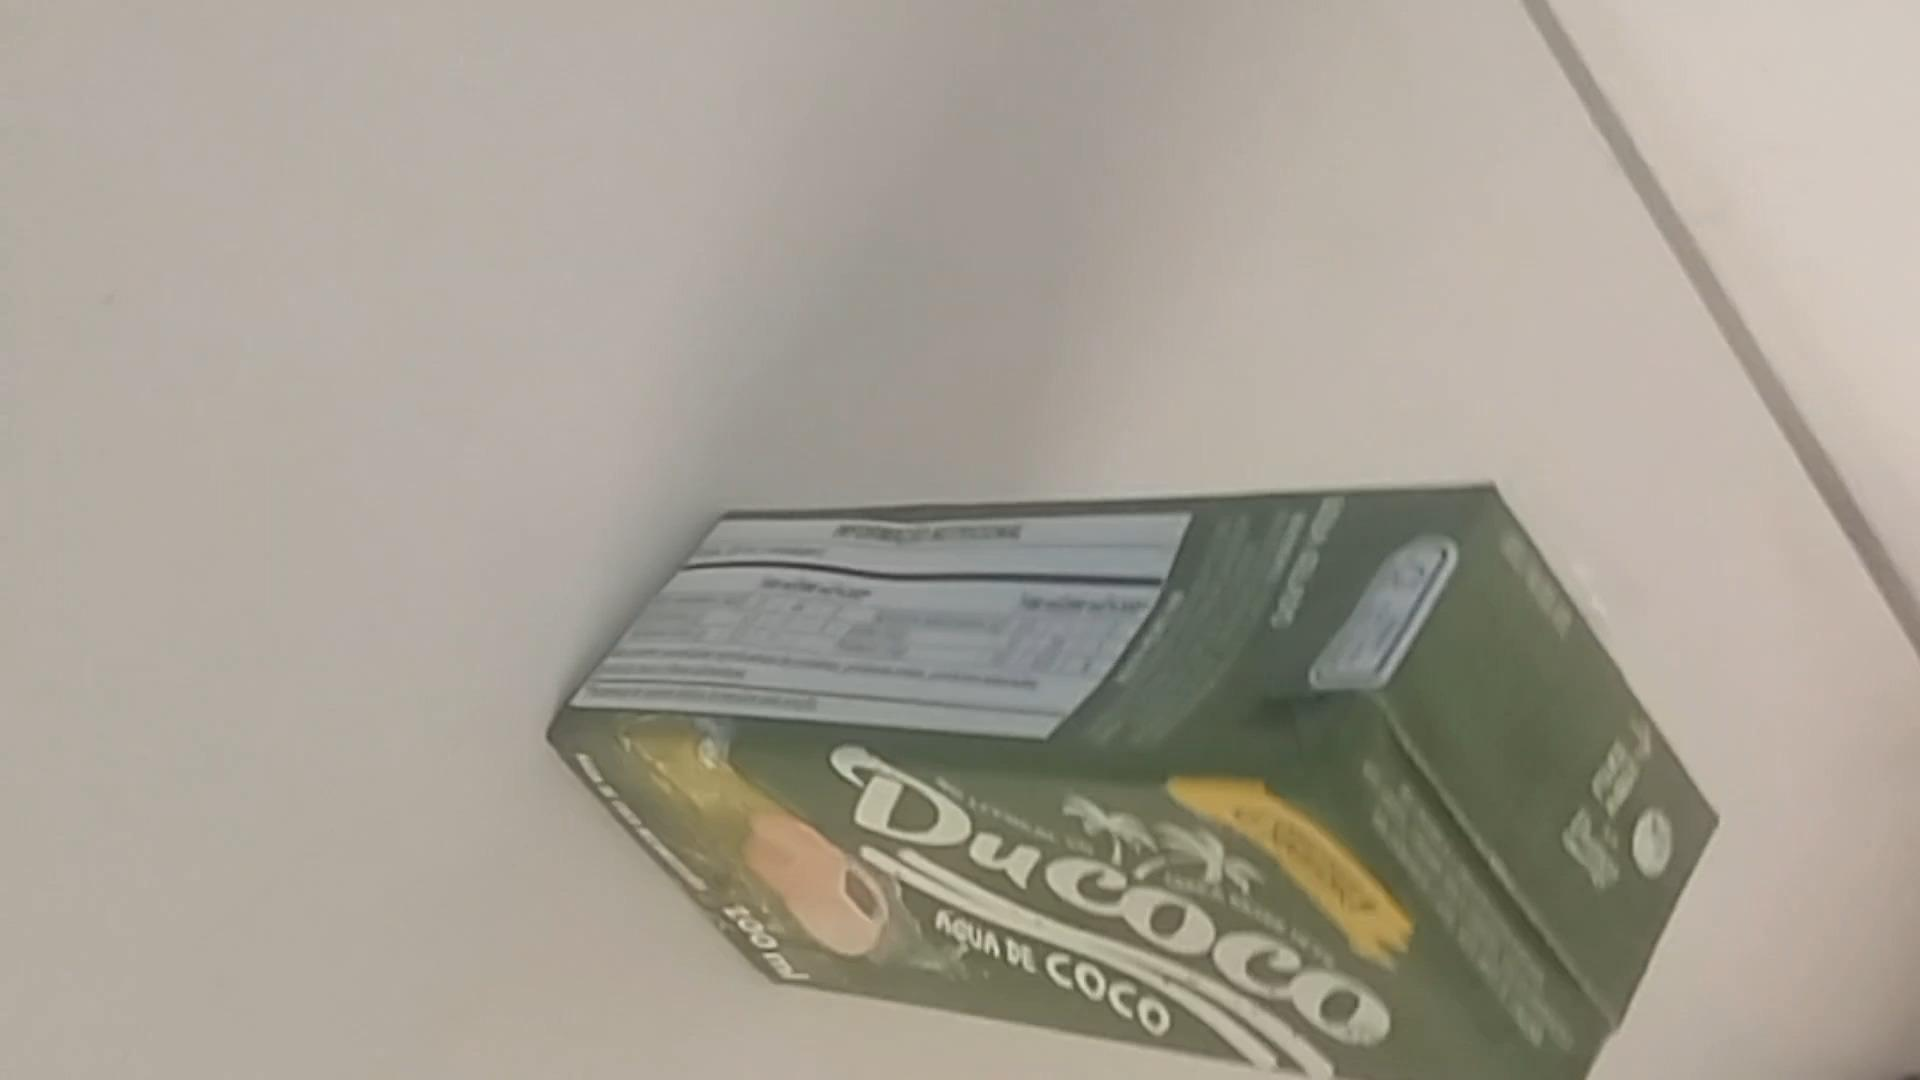coco: (556, 484, 1714, 1080)
